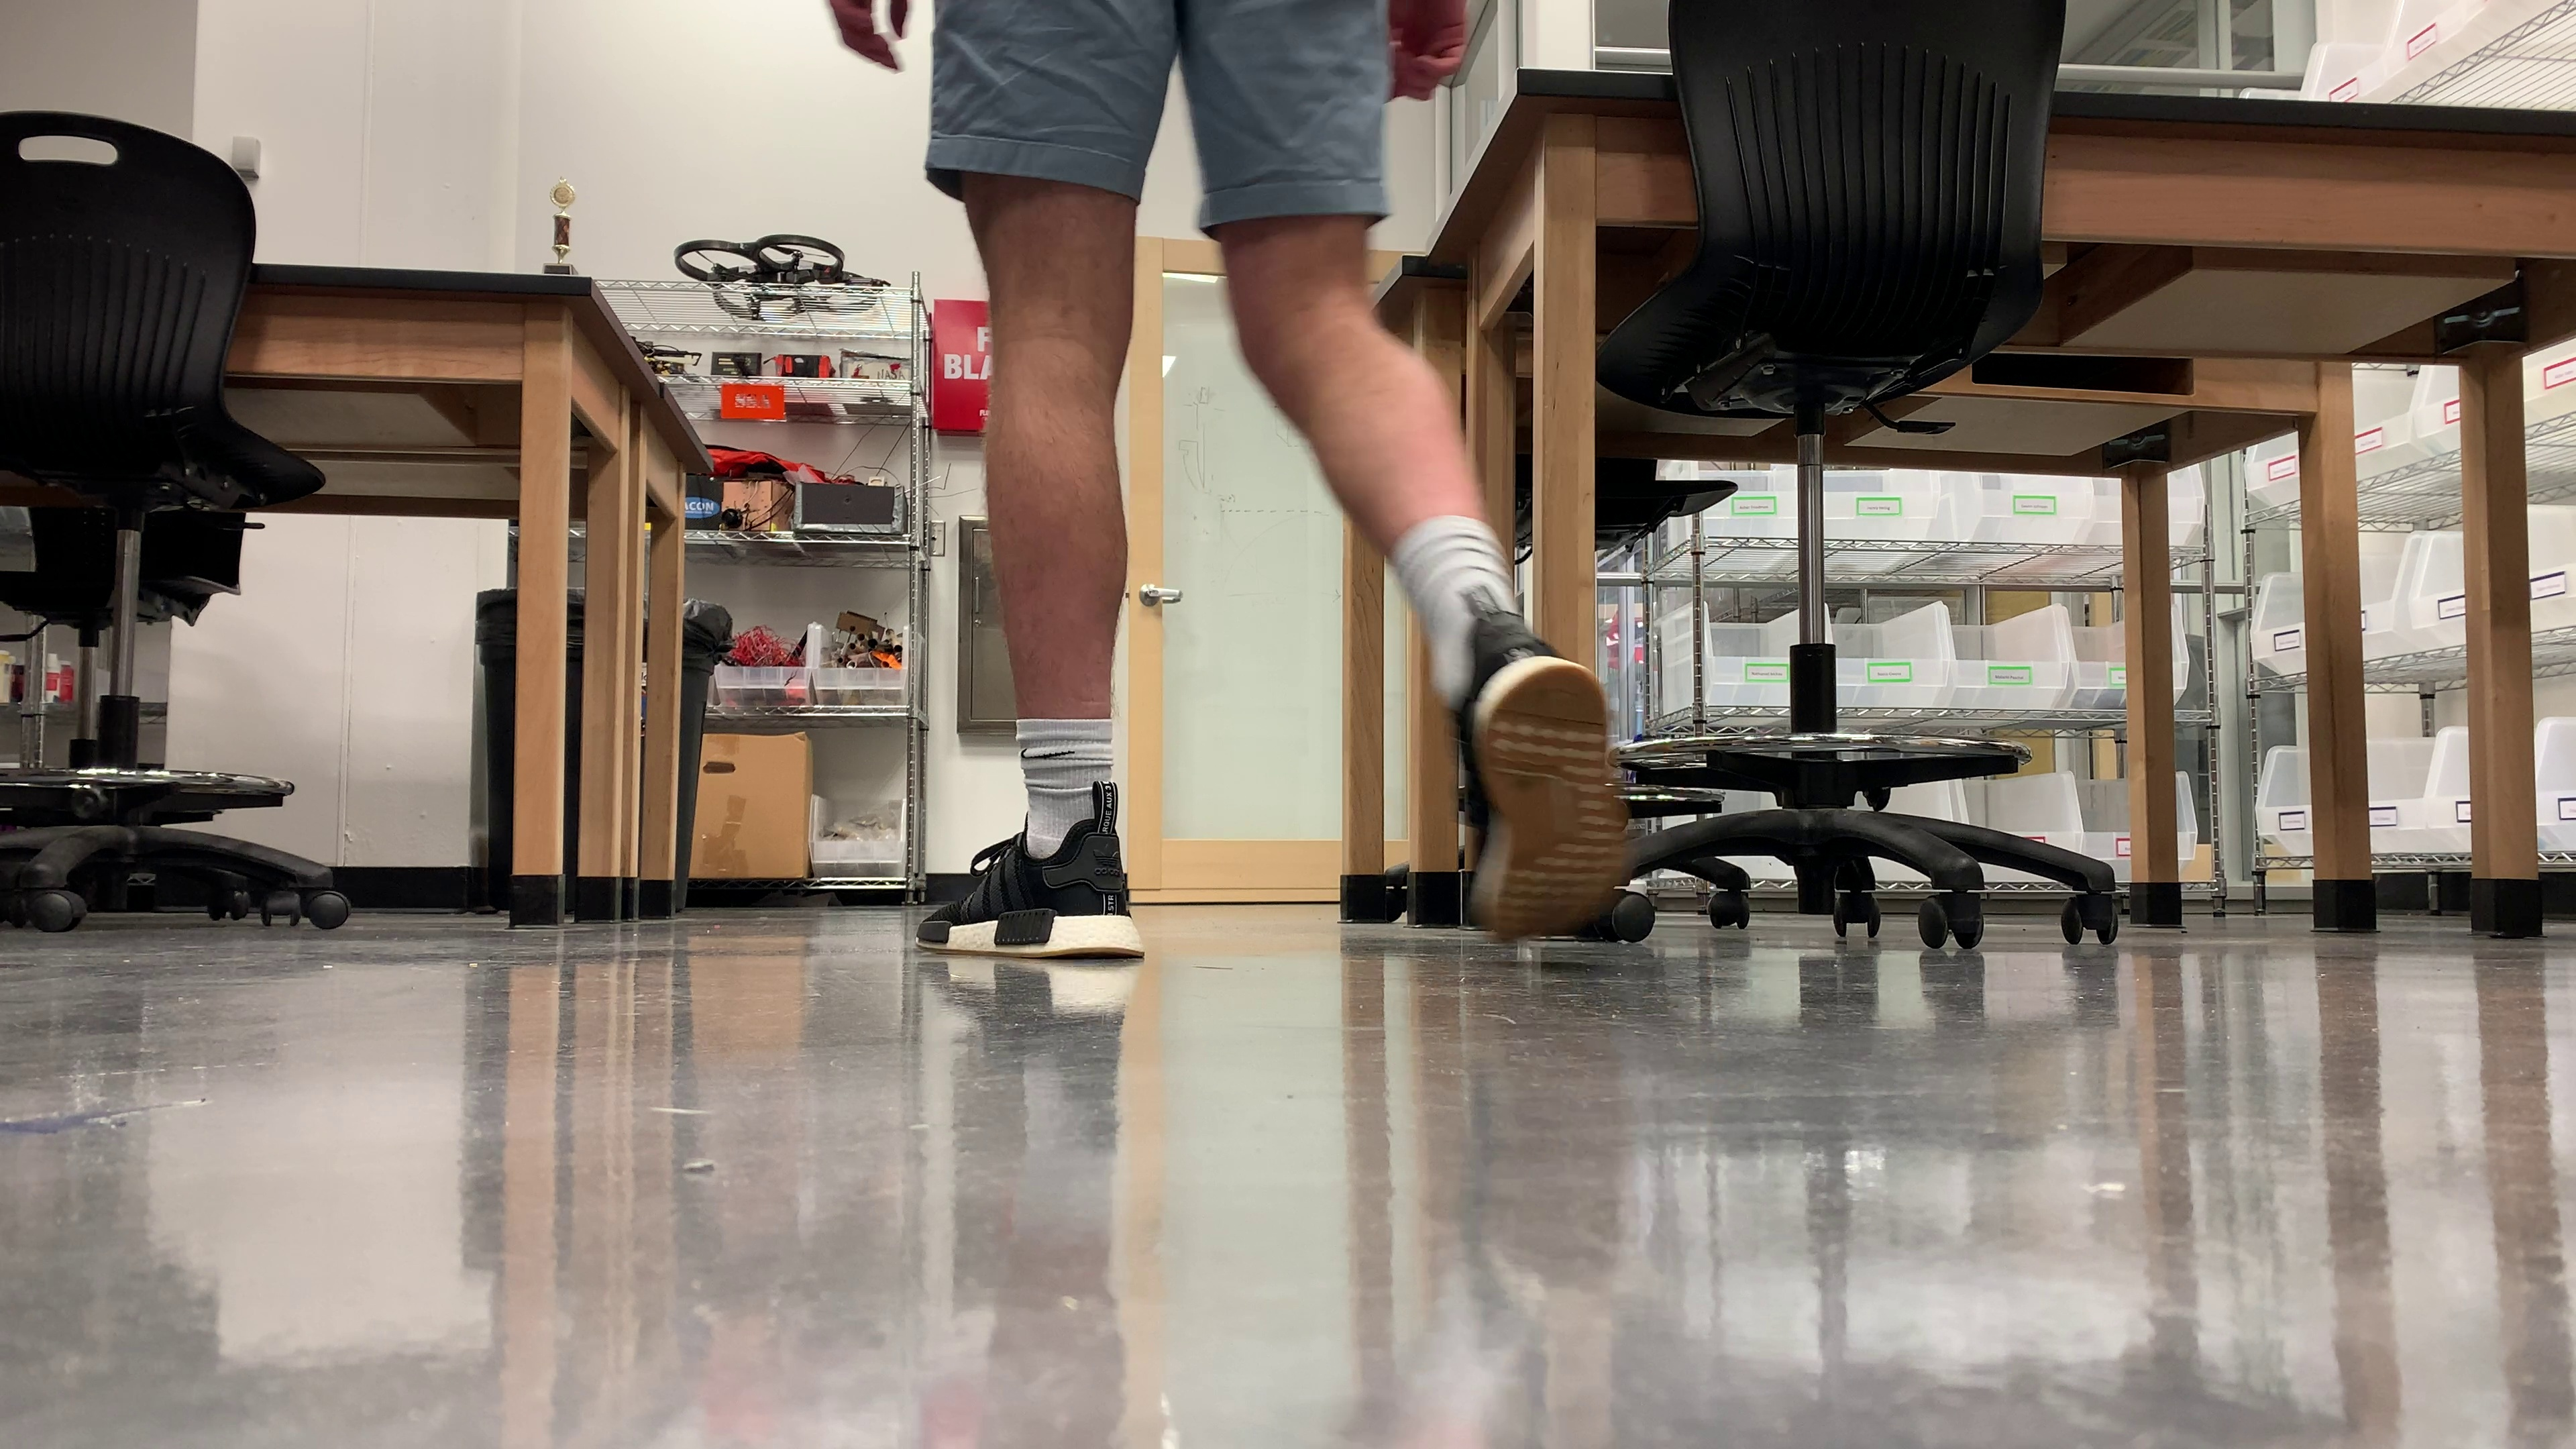shoe: (915, 814, 1141, 961)
